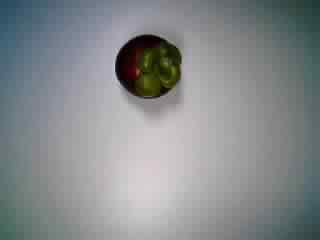mangosteen: (107, 29, 185, 105)
